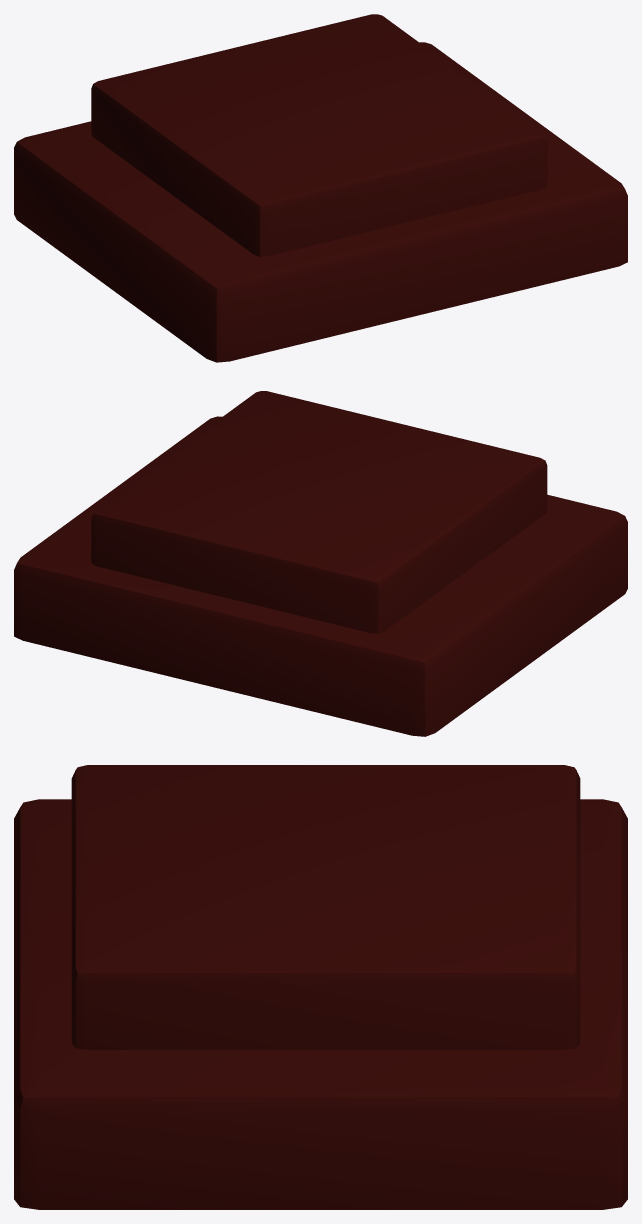
The model's file is boton_Linterna.fbx.
The picture shows the model from 3 angles, top to bottom: view 1: azimuth 30°, elevation 25°; view 2: azimuth 150°, elevation 25°; view 3: azimuth 270°, elevation 25°; orthographic projection. The views are drawn at different scales.
Parts seen in each view (by area): view 1: Solucion_Bien, Solucion_Cuerpo; view 2: Solucion_Bien, Solucion_Cuerpo; view 3: Solucion_Bien, Solucion_Cuerpo.
Part boxes in pixels (x1,y1,x2,y2): Solucion_Bien: (91, 14, 547, 256); Solucion_Cuerpo: (14, 42, 627, 362); Solucion_Bien: (91, 391, 547, 633); Solucion_Cuerpo: (14, 416, 627, 736); Solucion_Bien: (71, 765, 580, 1049); Solucion_Cuerpo: (14, 799, 627, 1209).
Size of the model in its own units: 5.76 by 1.7 by 4.93.
